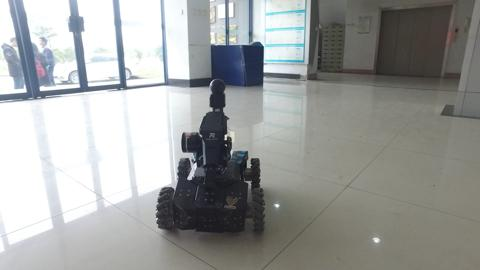chariot: (149, 73, 285, 241)
